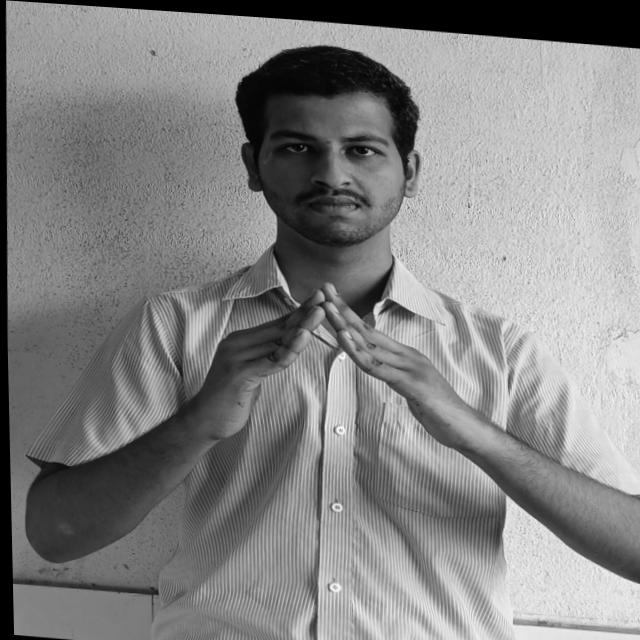Home: (189, 265, 455, 446)
